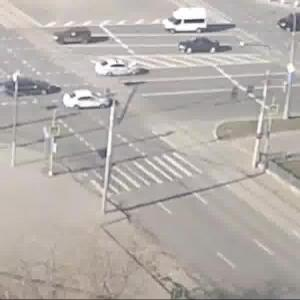car: (161, 8, 208, 36), (60, 90, 116, 111), (94, 57, 144, 78), (176, 38, 228, 57), (51, 27, 96, 48), (4, 80, 53, 98), (282, 13, 300, 33)
